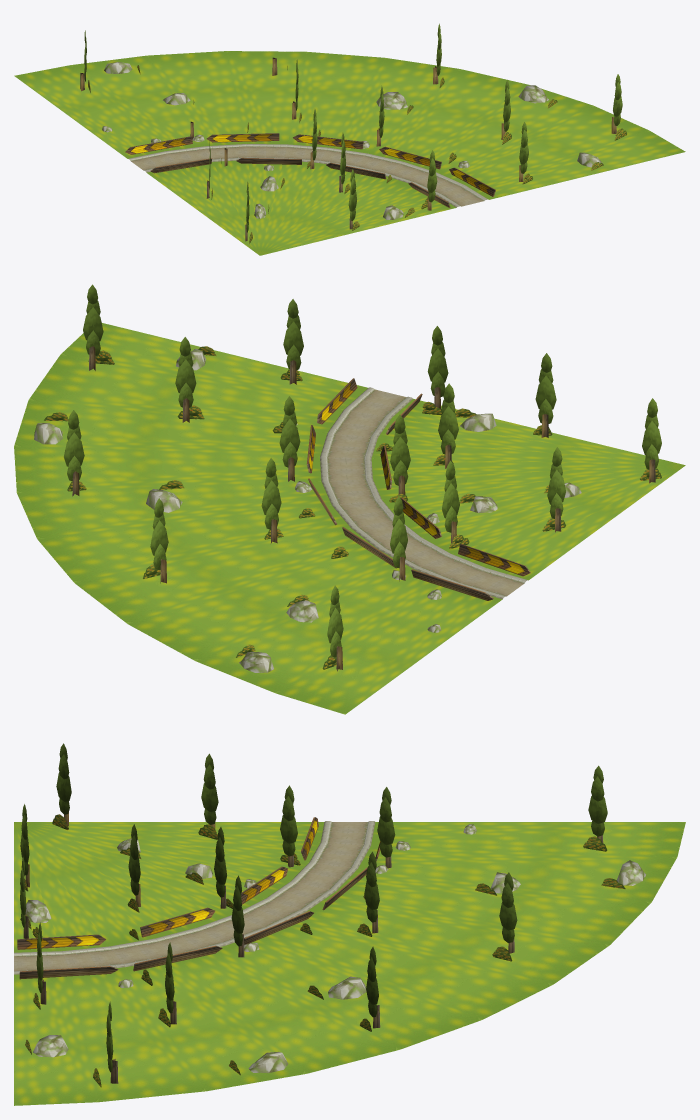
The model's file is VillageRoad01_LeftCurve.FBX.
3 views of the same model, one above another, from view 1: azimuth 30°, elevation 25°; view 2: azimuth 150°, elevation 25°; view 3: azimuth 270°, elevation 25° (orthographic). The views are drawn at different scales.
Visible parts, largest first — view 1: Road, Fence (×7), Tree (×3), Stone (×2); view 2: Road, Tree (×16), Fence (×2); view 3: Road, Tree (×12), Fence (×6), Stone (×3).
Boxes of the visible parts, <box> form: Road: <box>14,51,685,255</box>; Fence (×7): <box>125,133,495,196</box>; Tree (×3): <box>427,74,622,210</box>; Stone (×2): <box>376,85,548,109</box>; Road: <box>14,323,685,714</box>; Tree (×16): <box>64,284,661,671</box>; Fence (×2): <box>411,544,530,600</box>; Road: <box>14,821,685,1105</box>; Tree (×12): <box>56,743,607,1028</box>; Fence (×6): <box>17,866,313,979</box>; Stone (×3): <box>33,976,366,1073</box>.
Bounding box in the file's own units: 10000 × 1406 × 10000.
